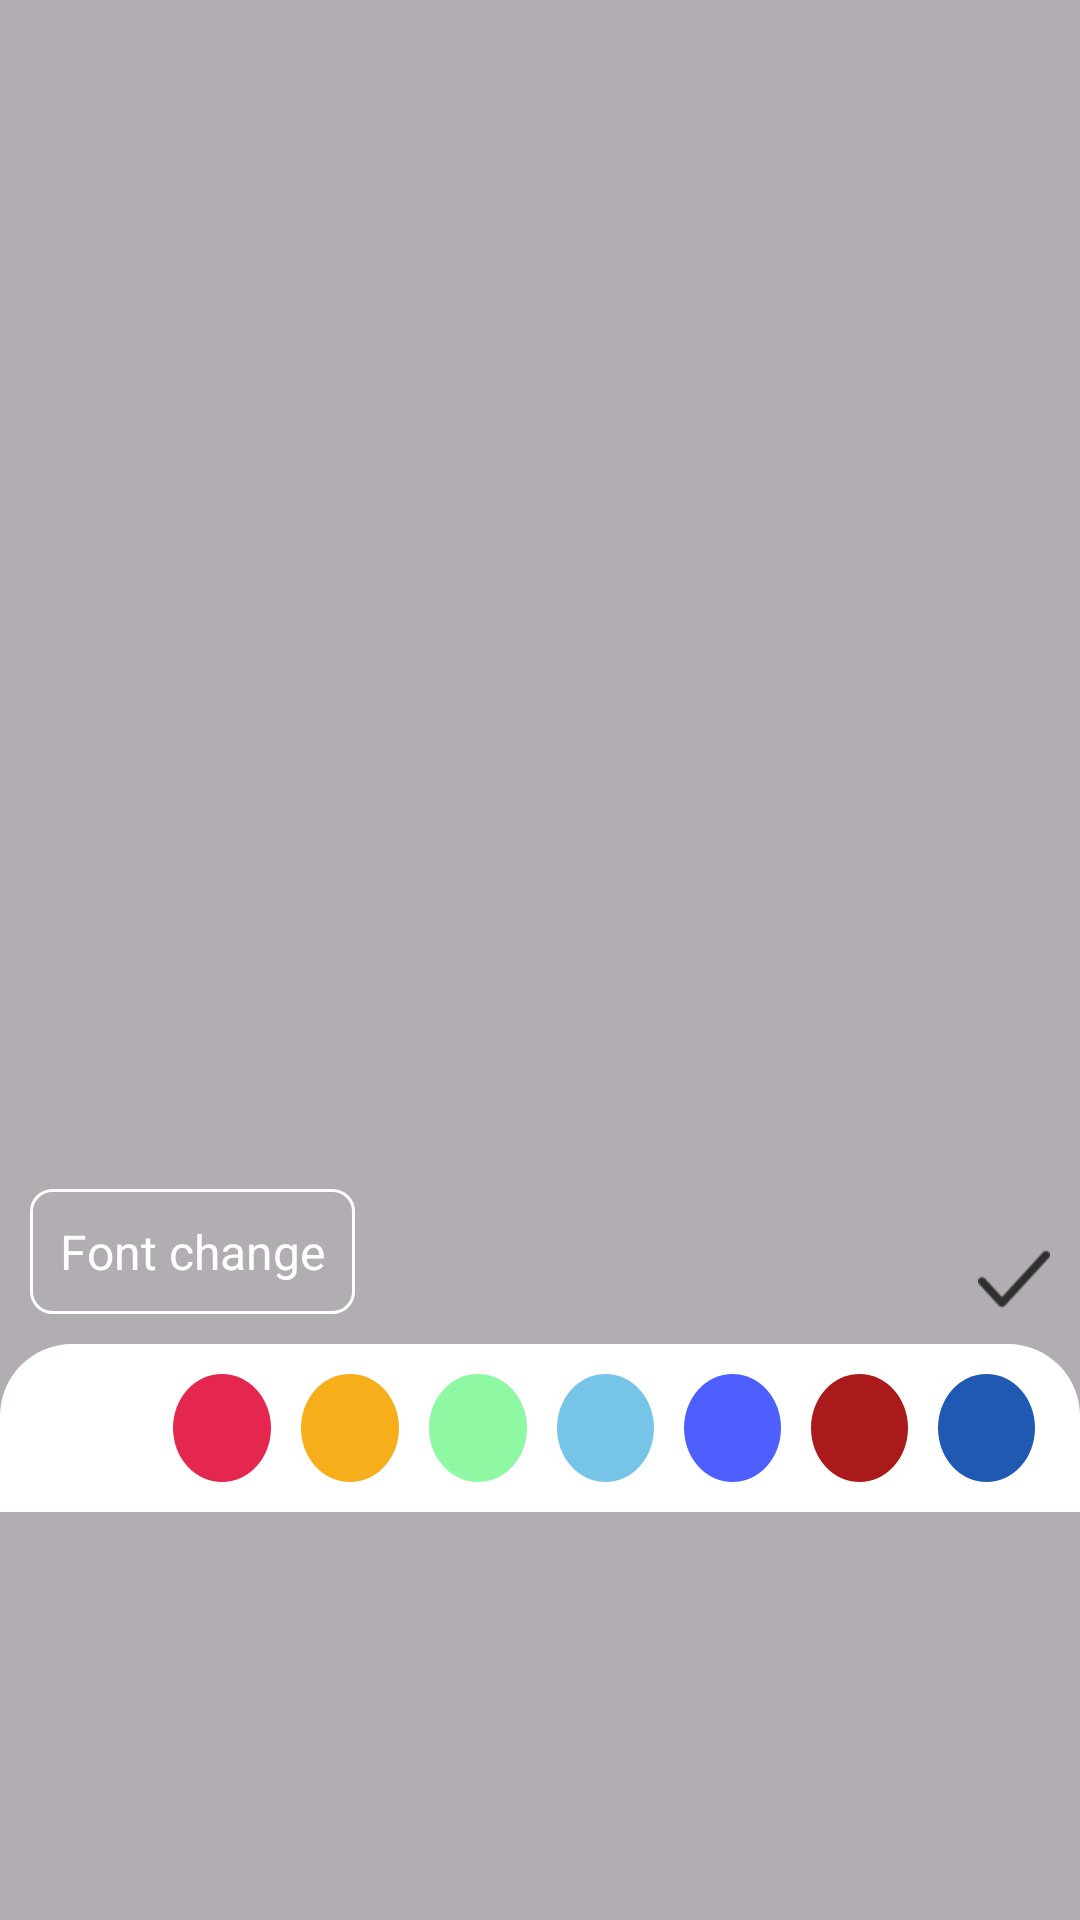

Where icons sit on this 1080x1920 app screen, as [x1,y1,x2,y2]:
done: [978,1251,1050,1308]
